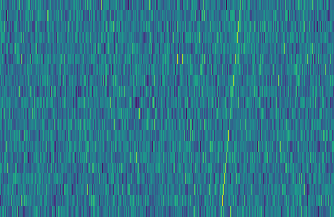signal: (217, 0, 247, 217)
